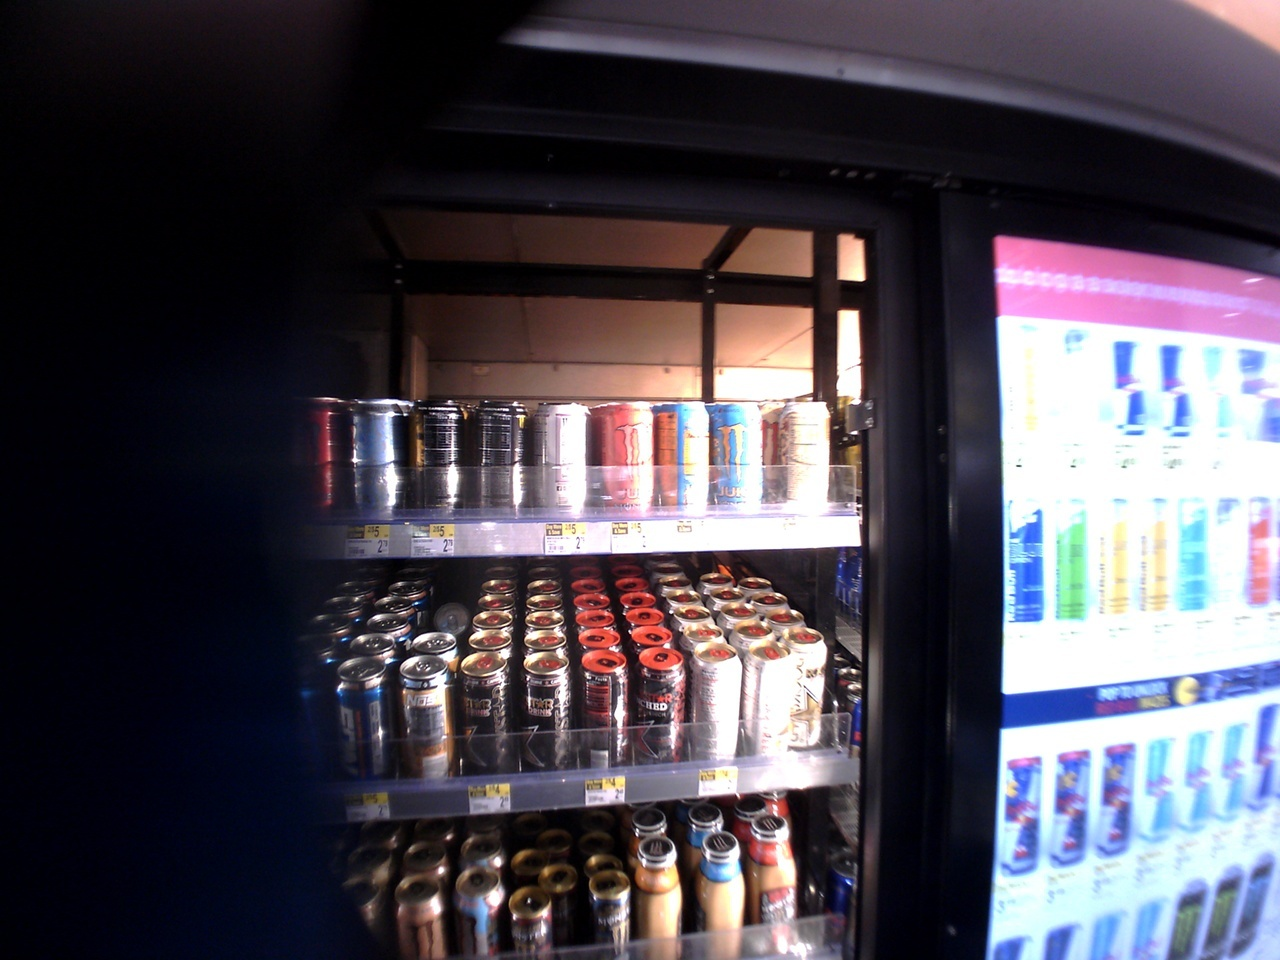shelf: (282, 556, 885, 788), (284, 347, 842, 548), (278, 805, 867, 960)
